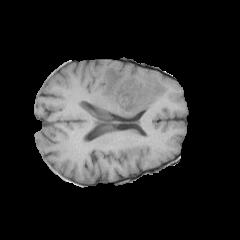glioma: (100, 66, 168, 116)
